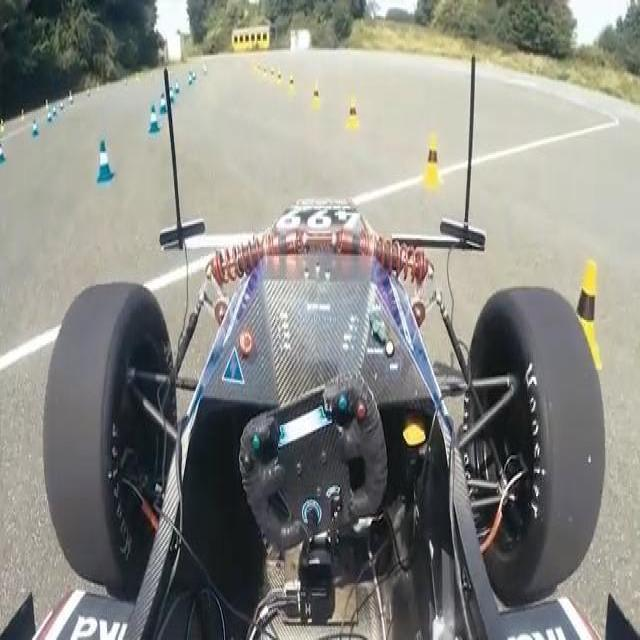blue_cone: (83, 130, 128, 204), (141, 94, 171, 148)
yellow_cone: (561, 247, 615, 367), (417, 124, 455, 208), (342, 90, 367, 154), (306, 75, 326, 112)
